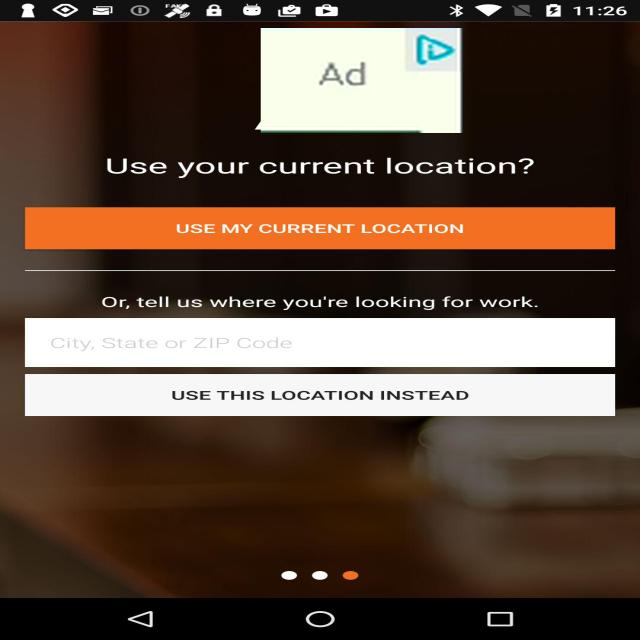sneaking: (261, 28, 464, 133)
